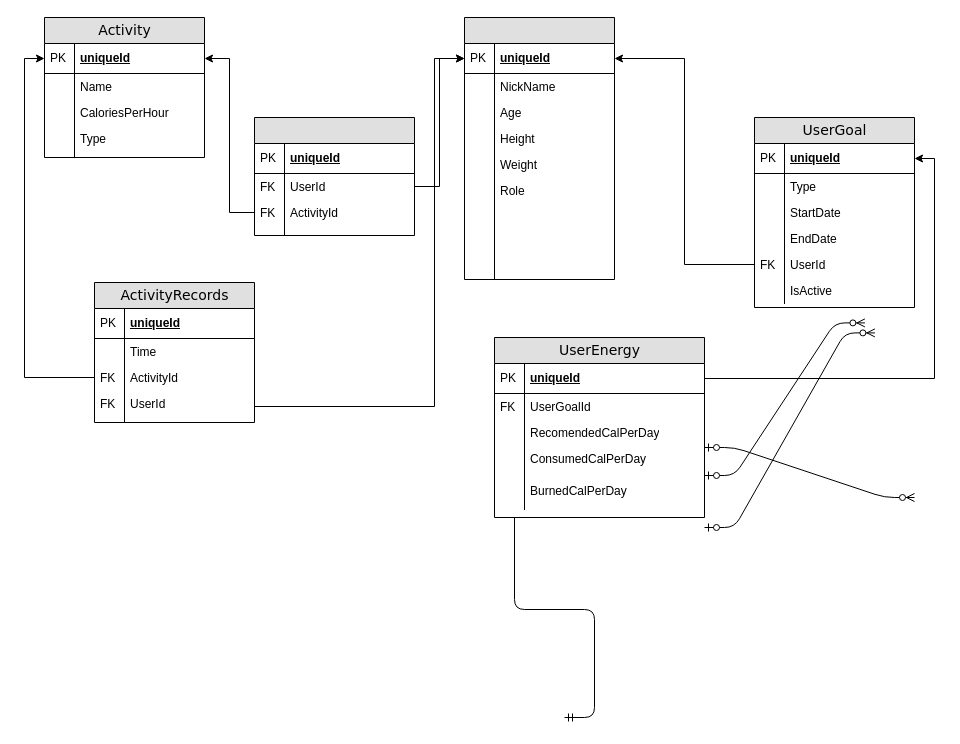
This 960x744 diagram has some shape labels left out. The shapes that lost their labels are listed below. From the top down, each one's box as (x1, y1, x2, y2) in pixels, then its label:
(464, 16, 614, 280): User
(254, 116, 414, 236): UserActivity
